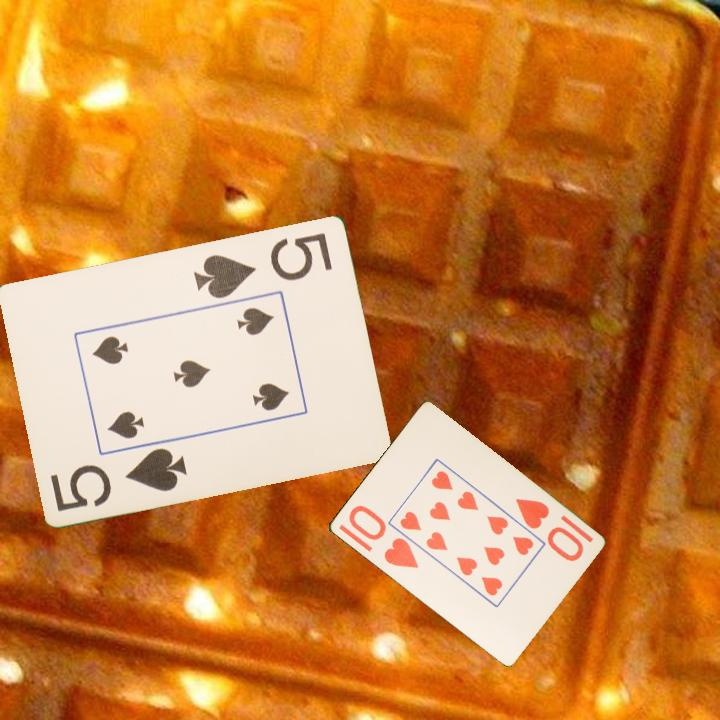10h: (344, 501, 421, 571), (512, 494, 586, 564)
5s: (190, 229, 336, 301), (47, 443, 191, 514)
